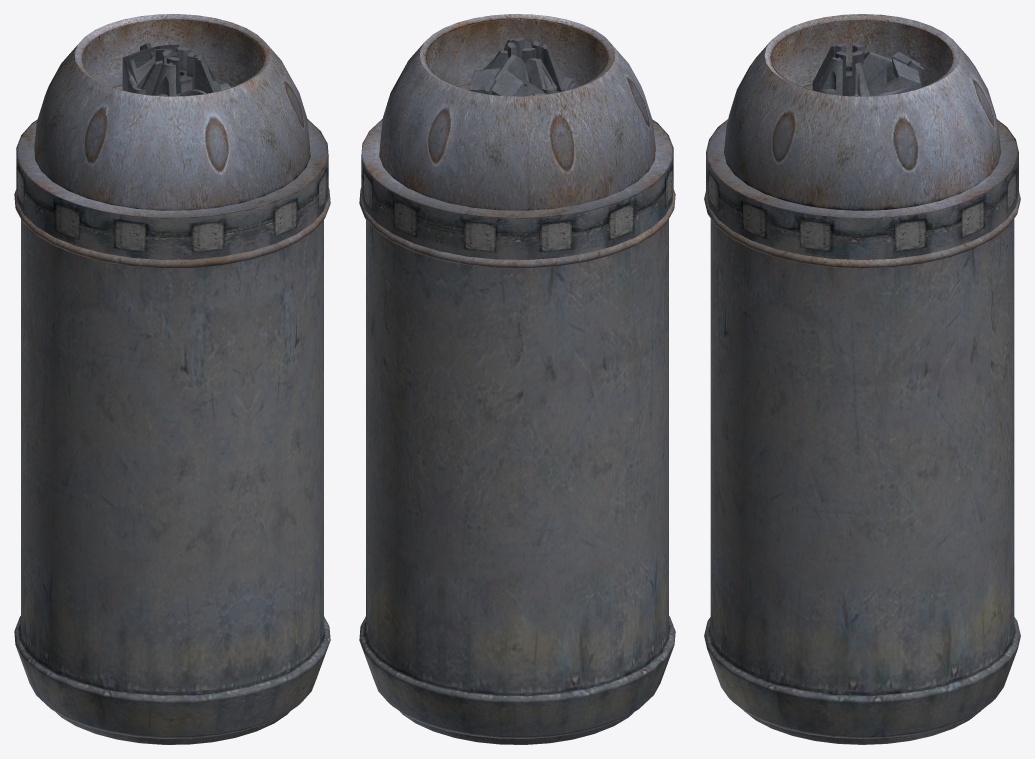
File: Toa_Canister_Face.obj
3 views of the same model, side by side, from view 1: azimuth 30°, elevation 25°; view 2: azimuth 150°, elevation 25°; view 3: azimuth 270°, elevation 25° (orthographic).
Visible parts, largest first — view 1: Mesh; view 2: Mesh; view 3: Mesh.
Boxes of the visible parts, <box> form: Mesh: <box>14,14,330,744</box>; Mesh: <box>359,14,675,744</box>; Mesh: <box>704,14,1020,744</box>.
Bounding box in the file's own units: 2.09 × 4.67 × 2.09.
Materials: 1 (1 with a texture image).
